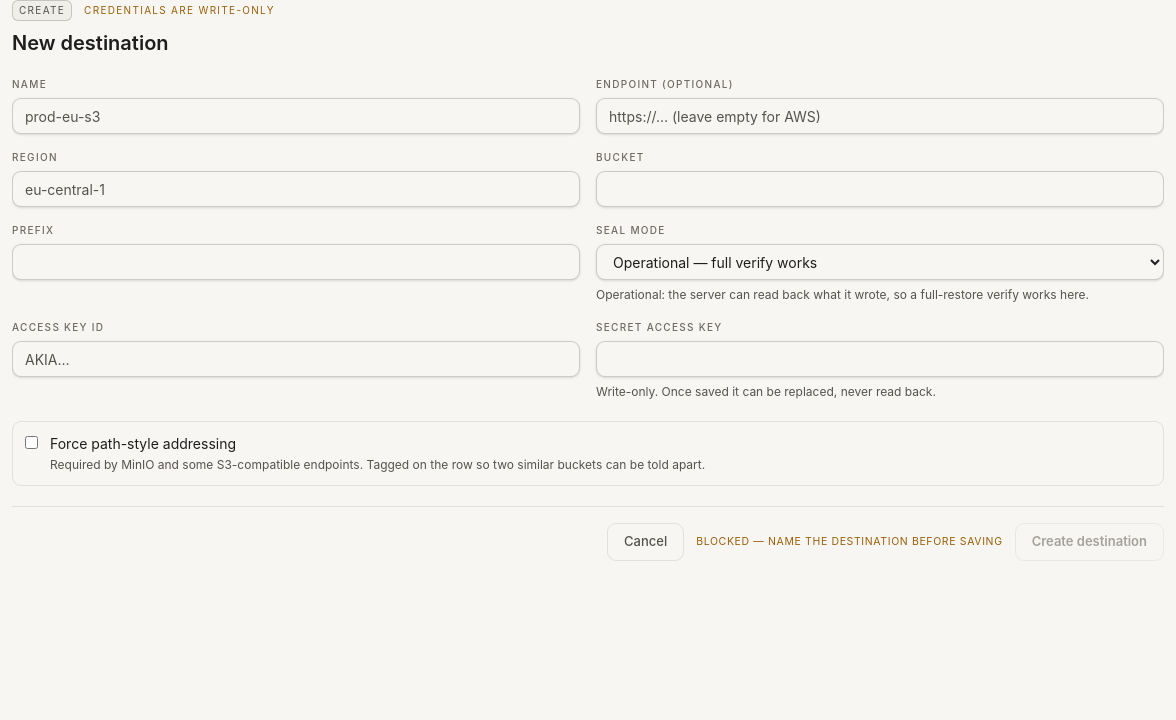
DestinationForm says why Save is blocked › names the first missing field, in the order the form is filled
The width and height of the screenshot is (1176, 720).
Expected: the text with test id "button-blocked-reason" shows "name the destination", left=768, top=535, right=1003, bottom=548
Type "r2" into the field labelled "Name". click: (296, 116)
box: left=12, top=98, right=580, bottom=134
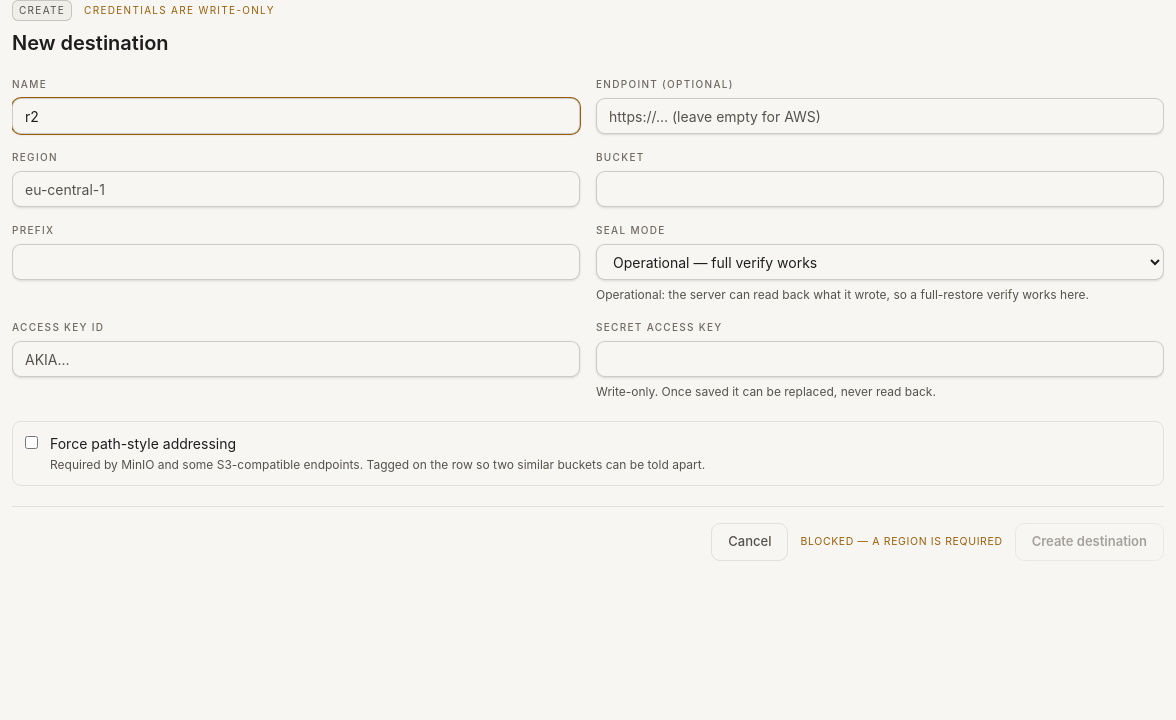
Now the text with test id "button-blocked-reason" shows "a region is required", box left=872, top=535, right=1003, bottom=548
